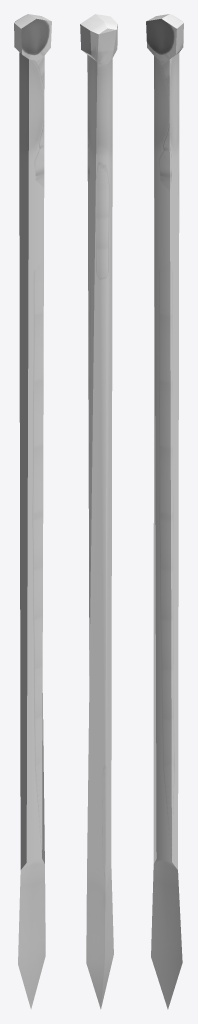
The model's file is Spatula_Blade_Colldr.fbx.
The picture shows the model from 3 angles, left to right: view 1: azimuth 30°, elevation 25°; view 2: azimuth 210°, elevation 25°; view 3: azimuth 330°, elevation 25°; orthographic projection.
Visible parts, largest first — view 1: Spatula_Blade_Colldr; view 2: Spatula_Blade_Colldr; view 3: Spatula_Blade_Colldr.
Boxes of the visible parts, left/top/right/bottom form: Spatula_Blade_Colldr: left=14, top=14, right=51, bottom=1009; Spatula_Blade_Colldr: left=80, top=14, right=117, bottom=1009; Spatula_Blade_Colldr: left=146, top=14, right=183, bottom=1009.
Bounding box in the file's own units: 0.7157 × 22.05 × 0.5243.
